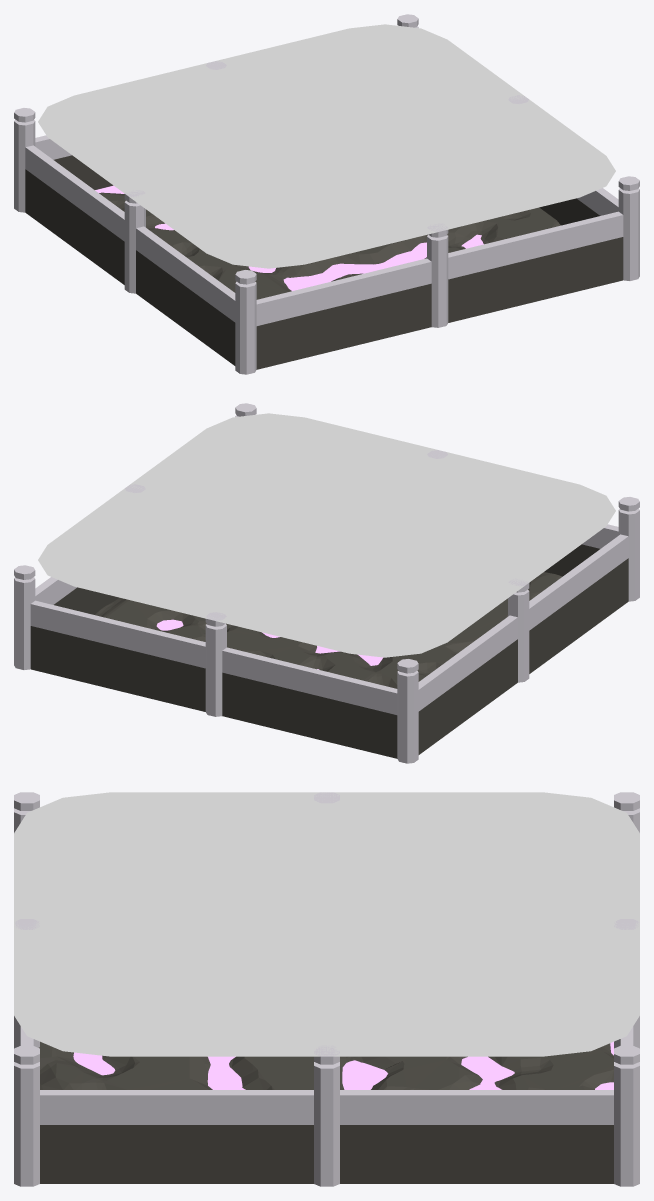
File: playArena.gltf
The picture shows the model from 3 angles, top to bottom: view 1: azimuth 30°, elevation 25°; view 2: azimuth 150°, elevation 25°; view 3: azimuth 270°, elevation 25°; orthographic projection. The views are drawn at different scales.
Visible parts, largest first — view 1: Plane.032, border.002, border.001, Plane.027, Plane.015, Plane.014; view 2: Plane.032, border.002, border.001, Plane.027, Plane.015, Plane.014; view 3: Plane.032, border.002, border.001, Plane.015, Plane.027, Plane.014.
Part boxes in pixels (<box>): Plane.032: <box>38,24,615,268</box>; border.002: <box>25,155,623,369</box>; border.001: <box>25,135,623,325</box>; Plane.027: <box>14,14,639,374</box>; Plane.015: <box>99,192,560,299</box>; Plane.014: <box>95,185,483,290</box>; Plane.032: <box>38,413,615,657</box>; border.002: <box>30,544,628,758</box>; border.001: <box>30,524,628,714</box>; Plane.027: <box>14,403,639,763</box>; Plane.015: <box>95,572,561,688</box>; Plane.014: <box>156,619,383,669</box>; Plane.032: <box>14,792,639,1056</box>; border.002: <box>40,1039,620,1183</box>; border.001: <box>20,1026,633,1124</box>; Plane.015: <box>39,1041,613,1089</box>; Plane.027: <box>14,792,639,1186</box>; Plane.014: <box>73,1041,613,1089</box>.
Size of what is drawn, in the model's own units: 48 by 11.43 by 48.
